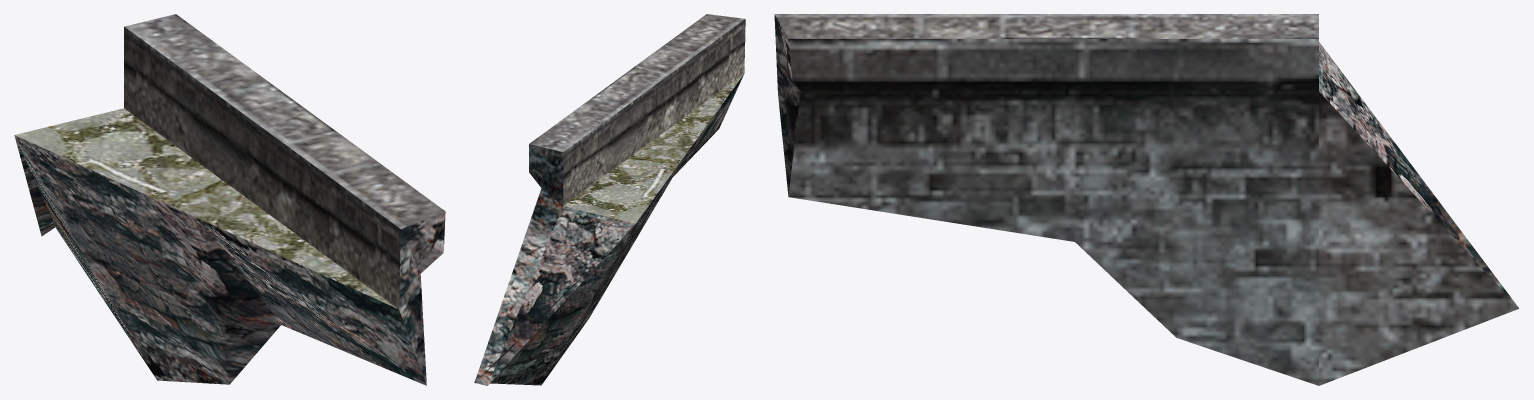
The model's file is BridgeTop5.fbx.
The picture shows the model from 3 angles, left to right: view 1: azimuth 30°, elevation 25°; view 2: azimuth 150°, elevation 25°; view 3: azimuth 270°, elevation 25°; orthographic projection. The views are drawn at different scales.
Visible parts, largest first — view 1: T02_trosky_01; view 2: T02_trosky_01; view 3: T02_trosky_01.
Boxes of the visible parts, x1,y1,x2,y2 form: T02_trosky_01: (14,14,445,385); T02_trosky_01: (474,14,745,385); T02_trosky_01: (774,14,1518,385).
Bounding box in the file's own units: 156 × 333 × 631.
